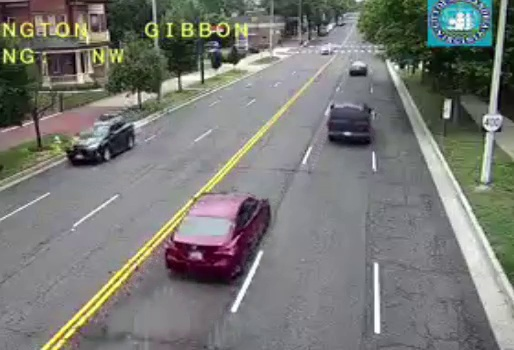car: (165, 193, 270, 277), (328, 103, 370, 141), (348, 61, 366, 76)
